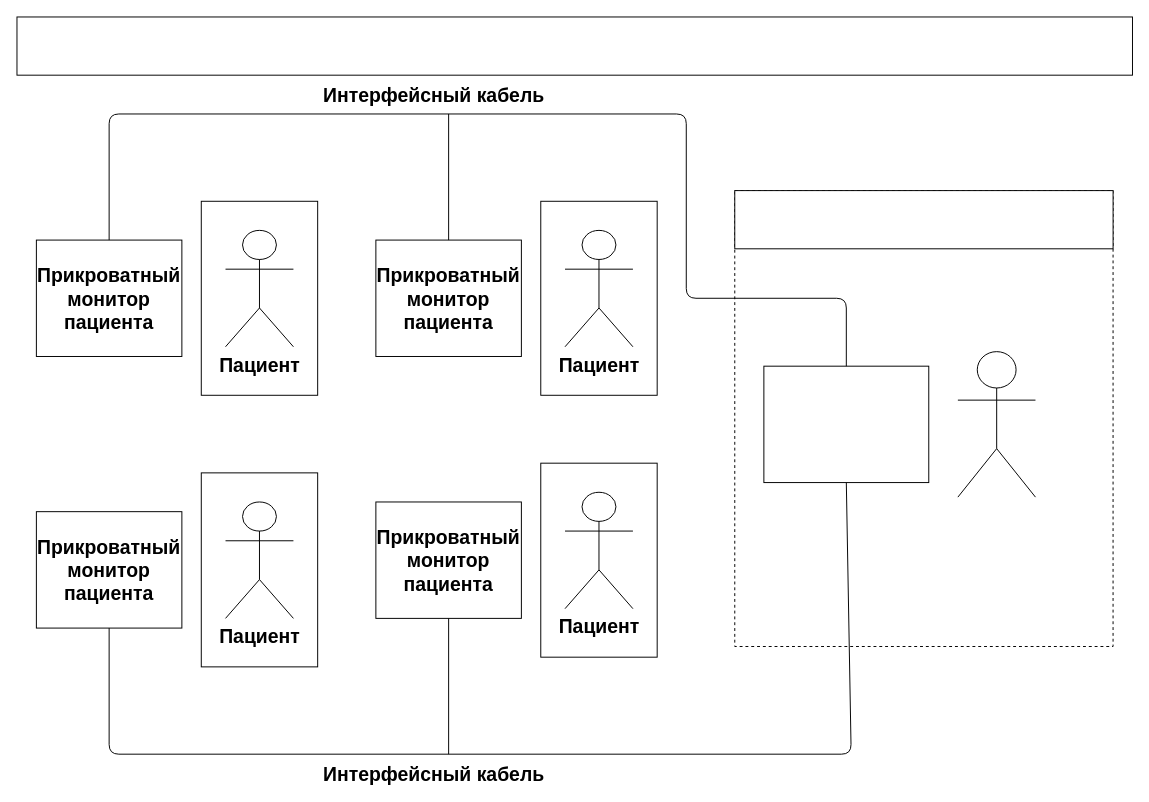
The diagram is 1149 pixels wide and 802 high, and some of its shapes have lost their labels. The shapes that lost their labels are listed below. From the top down, each one's box as (x1, y1, x2, y2) in pixels, then its label:
(16, 16, 1132, 75): Палата интенсивной терапии
(734, 190, 1113, 249): Пост дежурной медсестры
(763, 365, 929, 483): Центральная мониторная станция
(957, 351, 1035, 497): Дежурная медсестра
